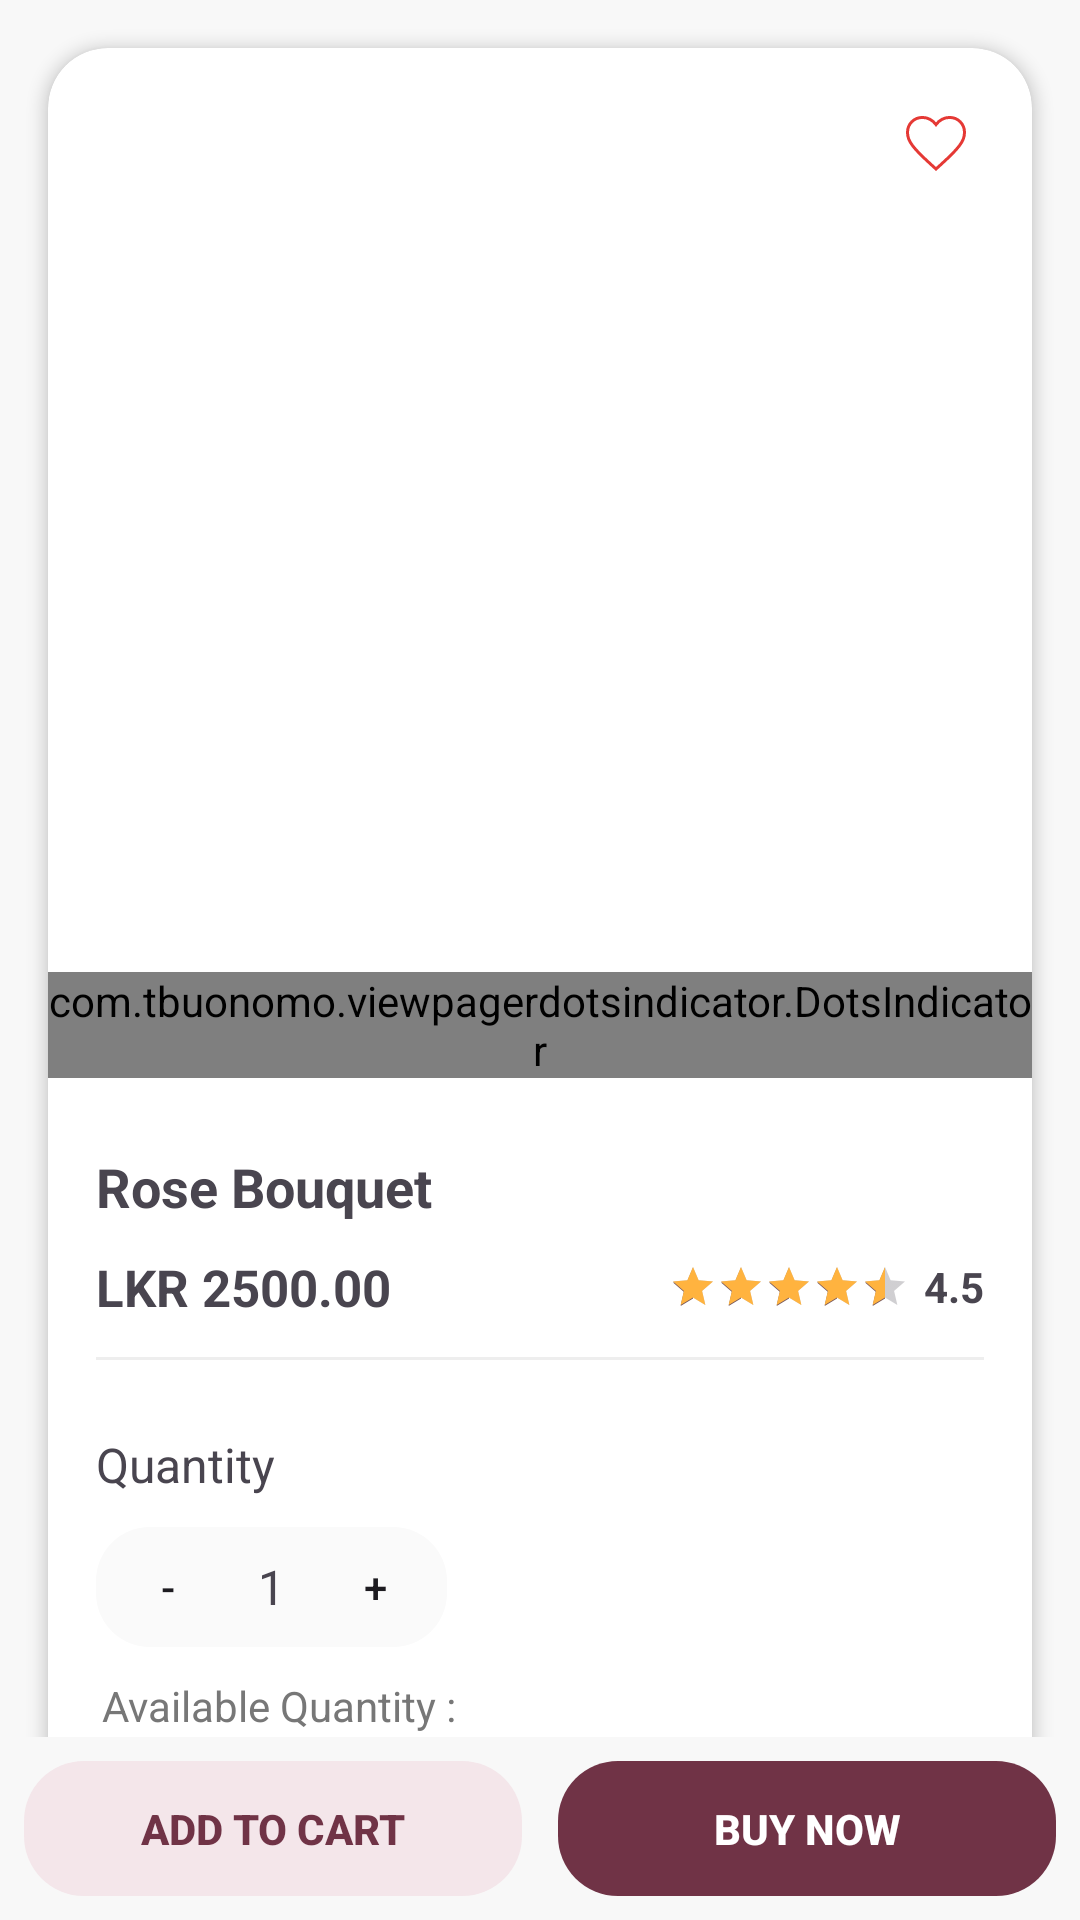

Locate icon controls on the screen. Image size 1080 x 1920, boxes as (x1, y1, x2, y2).
favorite: (906, 116, 966, 171)
